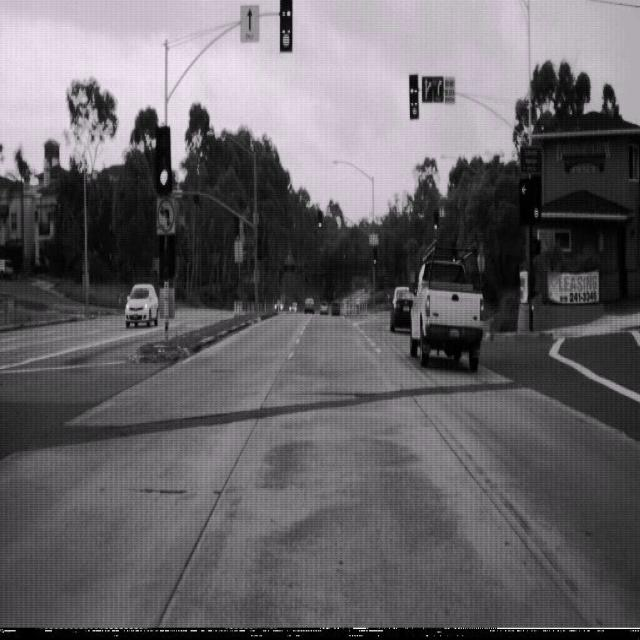noLeftTurn: (155, 195, 176, 234)
